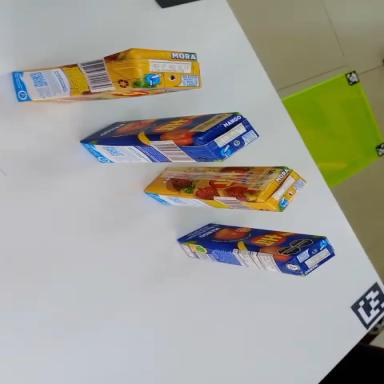HIT-MANGO: (80, 111, 260, 172), (175, 219, 336, 279)
HIT-MORA: (11, 40, 201, 113), (145, 165, 306, 212)
cara_F: (177, 219, 326, 260), (23, 80, 198, 110), (77, 112, 240, 142), (143, 167, 286, 198)
